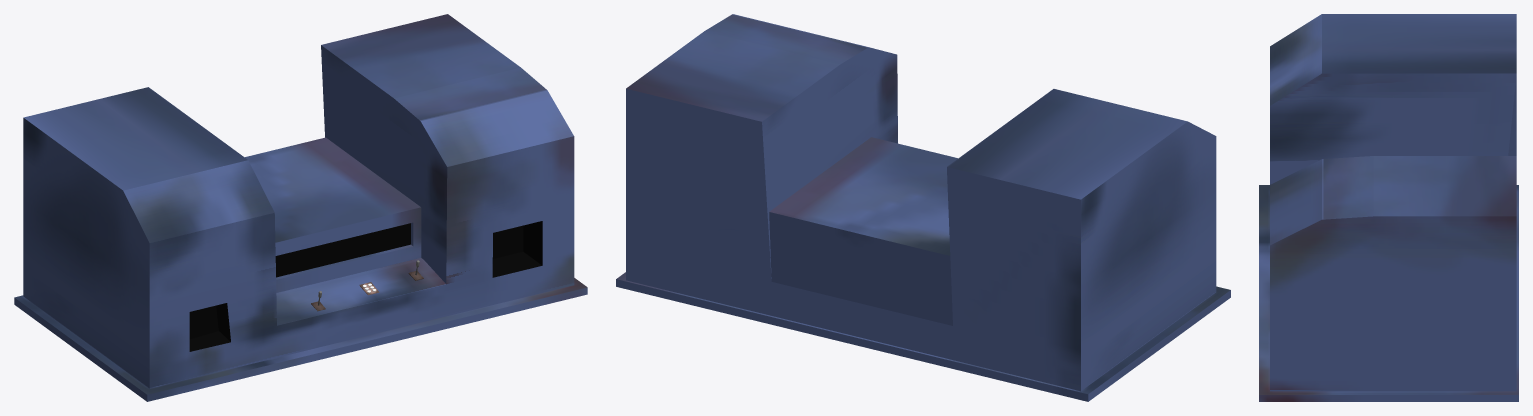
Rendered from mutator machine v2.glb.
3 renders of one model, left to right at view 1: azimuth 30°, elevation 25°; view 2: azimuth 150°, elevation 25°; view 3: azimuth 270°, elevation 25°, orthographic. The views are drawn at different scales.
Visible parts, largest first — view 1: Cube; view 2: Cube; view 3: Cube.
Part boxes in pixels (x1=…): Cube: x1=14, y1=14, x2=587, y2=401; Cube: x1=616, y1=14, x2=1230, y2=401; Cube: x1=1259, y1=14, x2=1518, y2=401.
Bounding box in the file's own units: 4.05 × 1.63 × 2.12.
7 materials, 3 textured.
